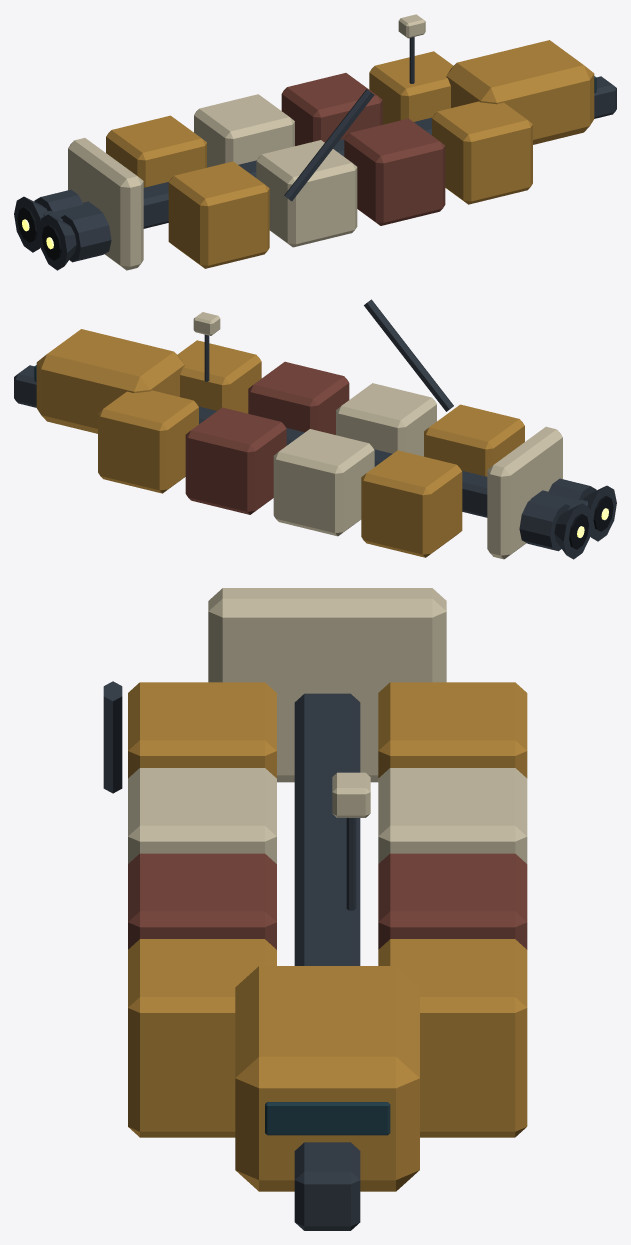
File: honest-weight.glb
The picture shows the model from 3 angles, top to bottom: view 1: azimuth 30°, elevation 25°; view 2: azimuth 150°, elevation 25°; view 3: azimuth 270°, elevation 25°; orthographic projection. The views are drawn at different scales.
Visible parts, largest first — view 1: forward command, freight container, freight container.002, freight container.003, freight container.001, reactor shield, freight container.005, freight container.004, freight container.006, freight container.007, structural spine, engine jacket (+7 smaller); view 2: forward command, freight container.004, freight container.005, freight container.006, freight container.007, reactor shield, freight container.002, freight container.001, freight container, freight container.003, structural spine, engine jacket.001 (+7 smaller); view 3: forward command, reactor shield, freight container.007, freight container.003, structural spine, freight container.006, freight container.004, freight container.005, freight container, freight container.001, freight container.002, bridge glazing (+3 smaller).
Boxes of the visible parts, x1,y1,x2,y2 form: forward command: (446,40,594,144); freight container: (168,161,269,268); freight container.002: (344,118,445,225); freight container.003: (432,101,532,204); freight container.001: (256,140,357,247); reactor shield: (68,138,143,270); freight container.005: (194,94,294,167); freight container.004: (106,115,206,187); freight container.006: (281,73,382,145); freight container.007: (369,51,453,124); structural spine: (43,76,616,228); engine jacket: (60,207,111,262); forward command: (36,329,184,433); freight container.004: (361,450,462,557); freight container.005: (273,429,374,536); freight container.006: (185,407,286,514); freight container.007: (98,390,198,493); reactor shield: (487,426,562,559); freight container.002: (248,361,349,434); freight container.001: (336,383,436,456); freight container: (424,404,524,476); freight container.003: (177,340,261,413); structural spine: (14,365,587,517); engine jacket.001: (519,496,570,551); forward command: (235,966,419,1191); reactor shield: (208,588,446,782); freight container.007: (378,939,527,1137); freight container.003: (128,939,276,1137); structural spine: (294,693,360,1230); freight container.006: (378,853,527,949); freight container.004: (378,682,527,778); freight container.005: (378,768,527,863); freight container: (128,682,276,778); freight container.001: (128,768,276,863); freight container.002: (128,853,276,949); bridge glazing: (265,1102,390,1135).
Bounding box in the file's own units: 11.12 × 2.79 × 3.55.
